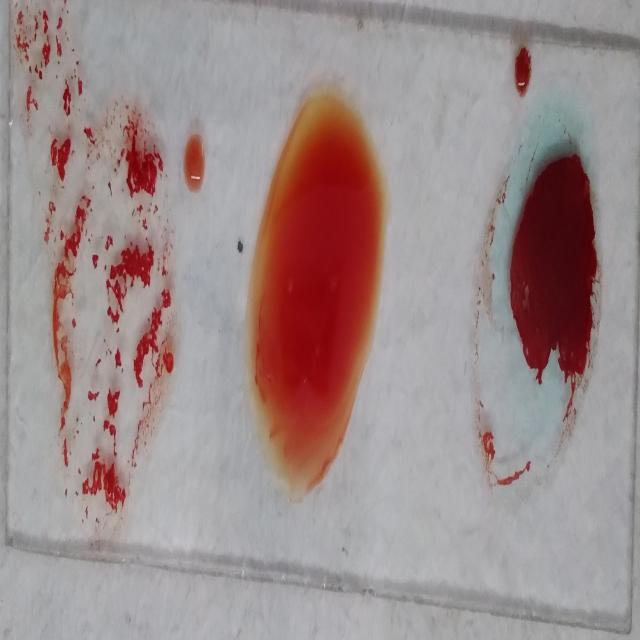A: (476, 117, 599, 501)
D: (42, 95, 175, 540)
